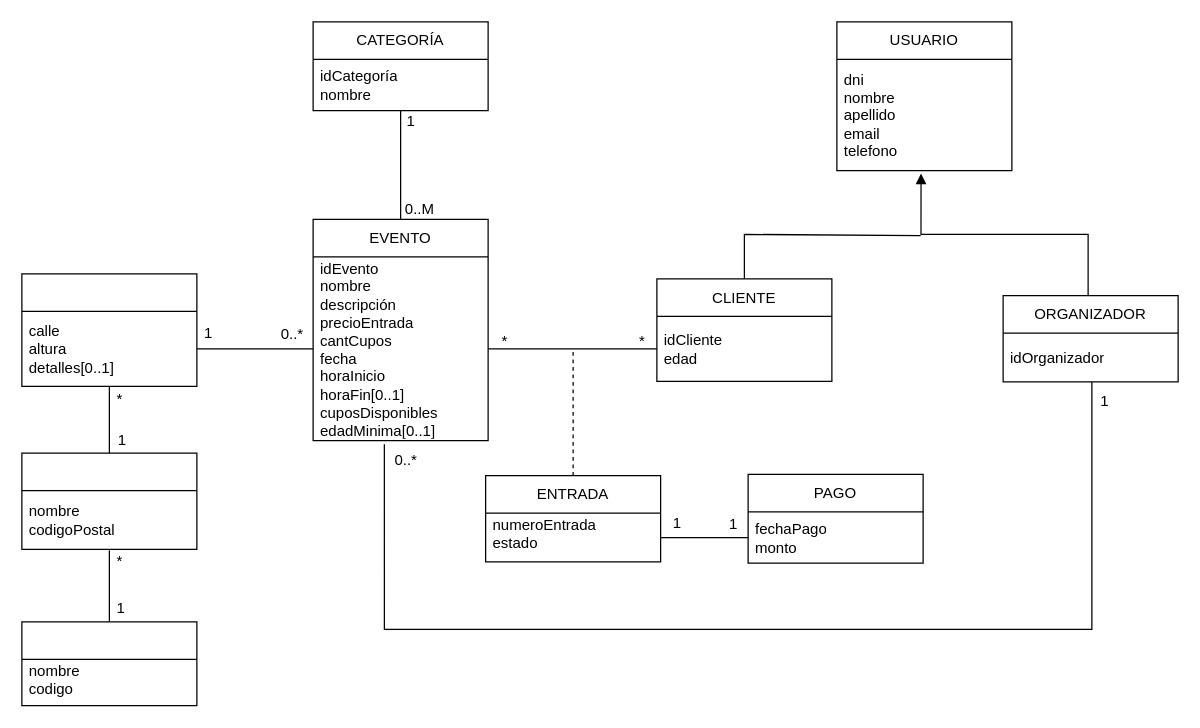
Image size: 1200x728. Some labels were removed from this diagram. The box of each missing label's shape, as (x1, y1, x2, y2) in pixels:
DIRECCIÓN: (21, 272, 197, 386)
LOCALIDAD: (21, 452, 197, 549)
PROVINCIA: (21, 621, 197, 706)
